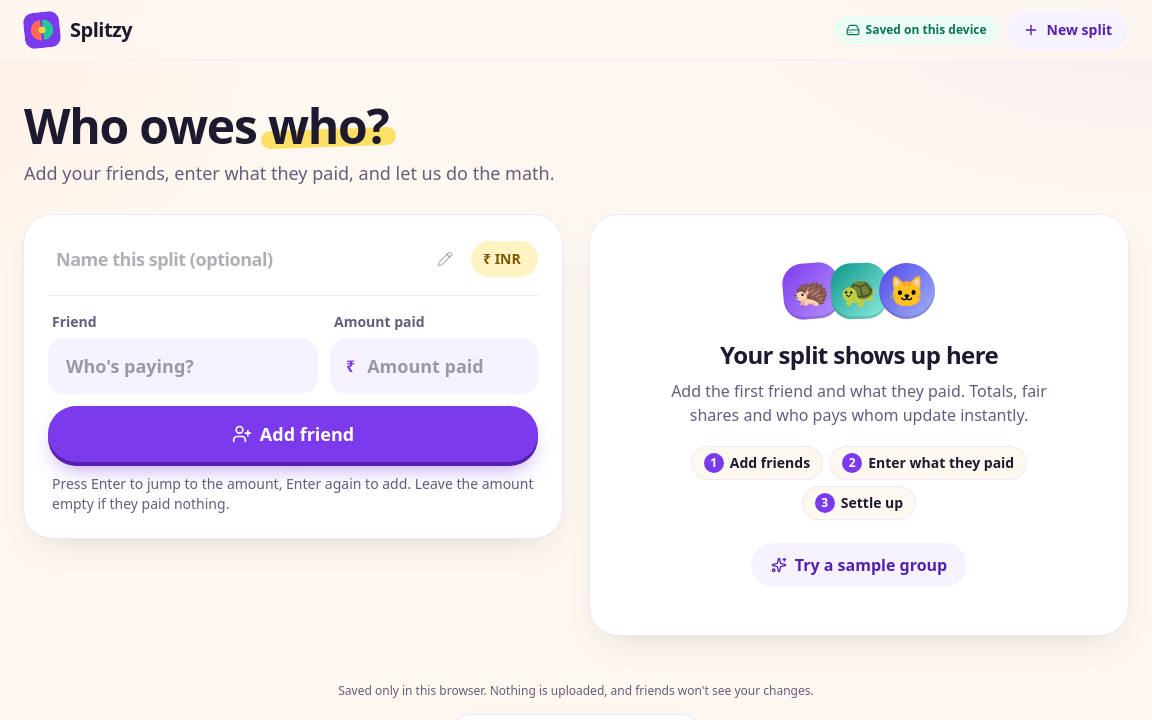
Test: Splitzy app › offers to merge a duplicate name instead of adding a second person
Type "Alice" into the field labelled "Friend" at (183,366), box [48, 338, 318, 394]
Type "900" into the field labelled "Amount paid" at (434,366), box [330, 338, 538, 394]
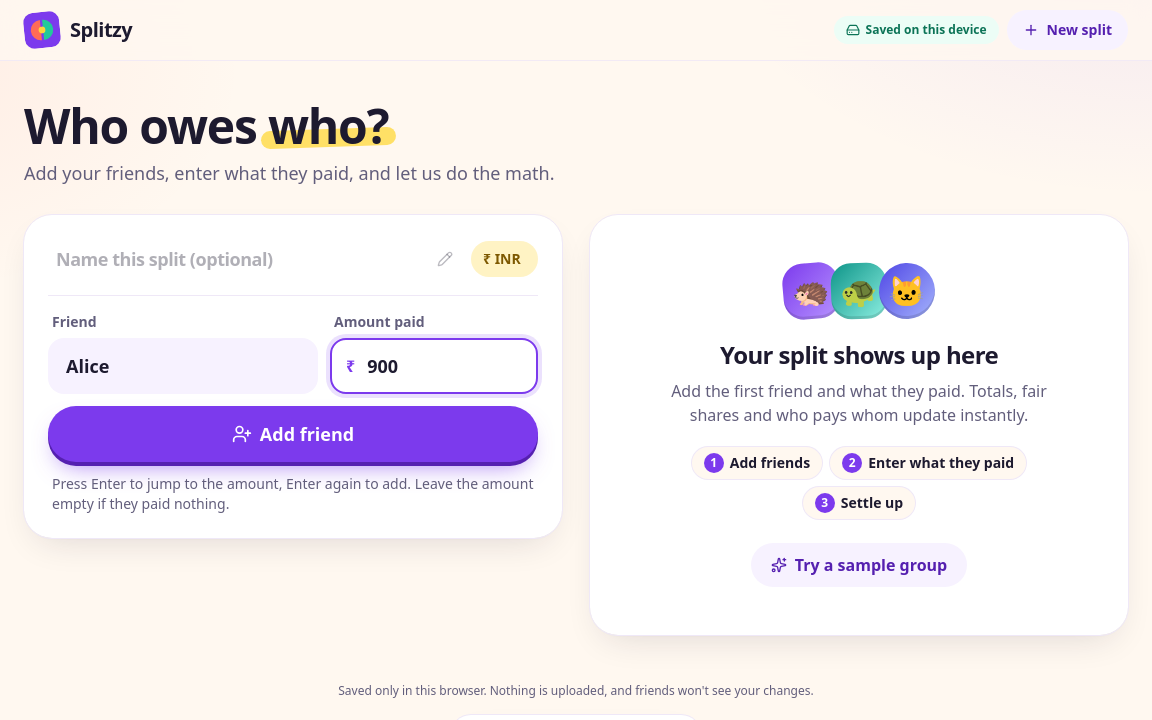
Click the button "Add friend" at (293,434), box [48, 406, 538, 462]
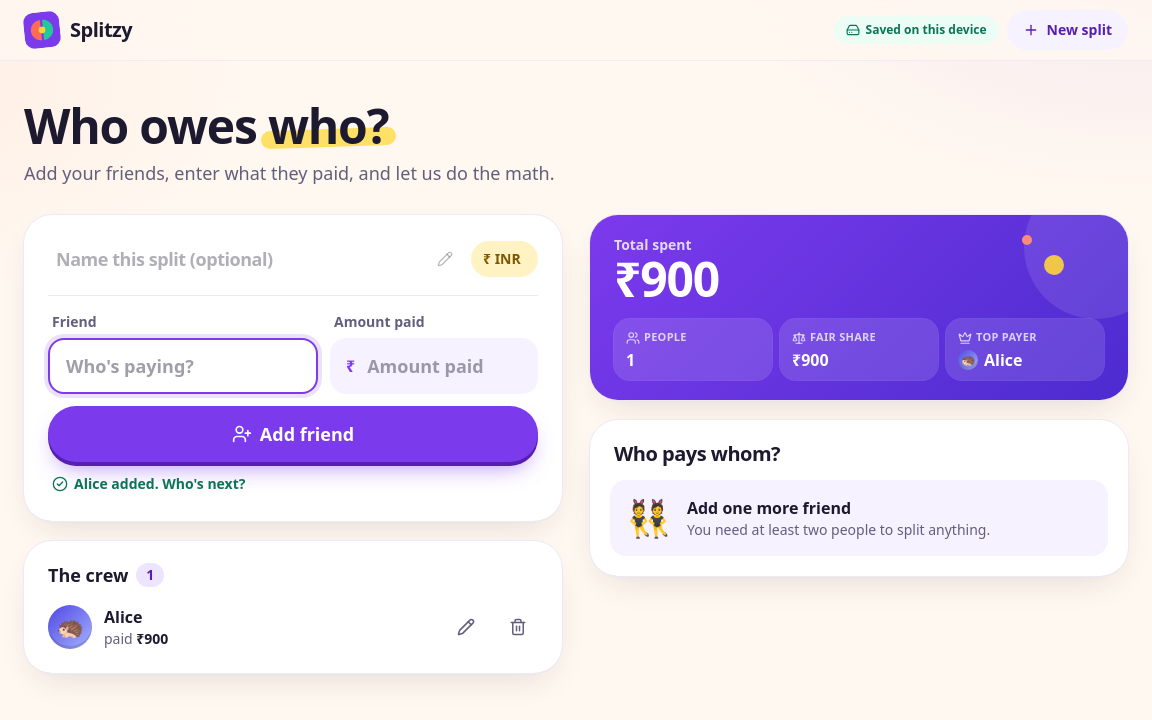
Type " alice " into the field labelled "Friend" at (183,366), box [48, 338, 318, 394]
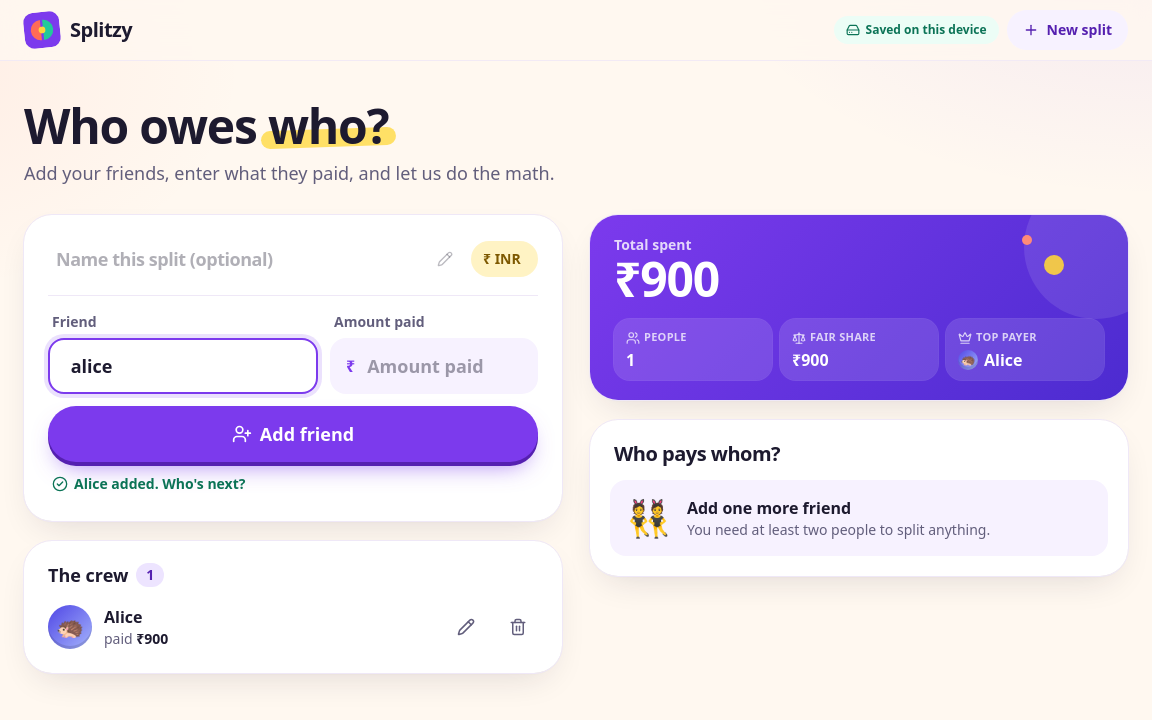
Type "100" into the field labelled "Amount paid" at (434,366), box [330, 338, 538, 394]
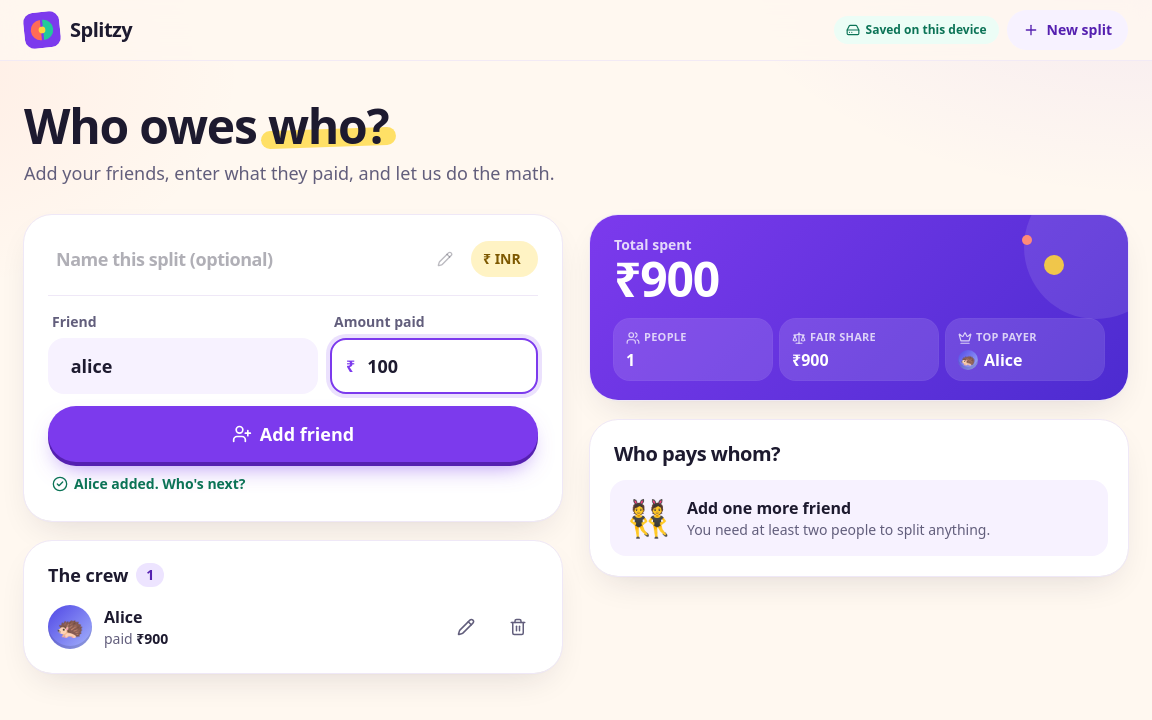
Click the button "Add friend" at (293,434), box [48, 406, 538, 462]
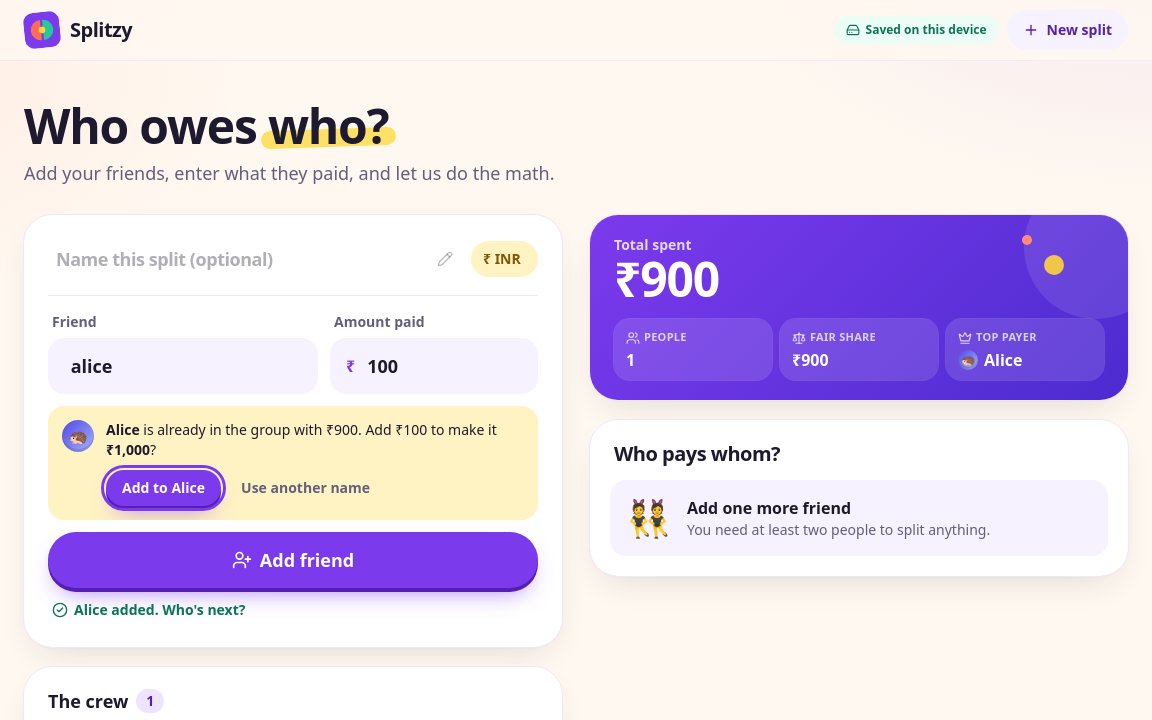
Click the button "Add to Alice" at (164,488), box [106, 470, 221, 506]
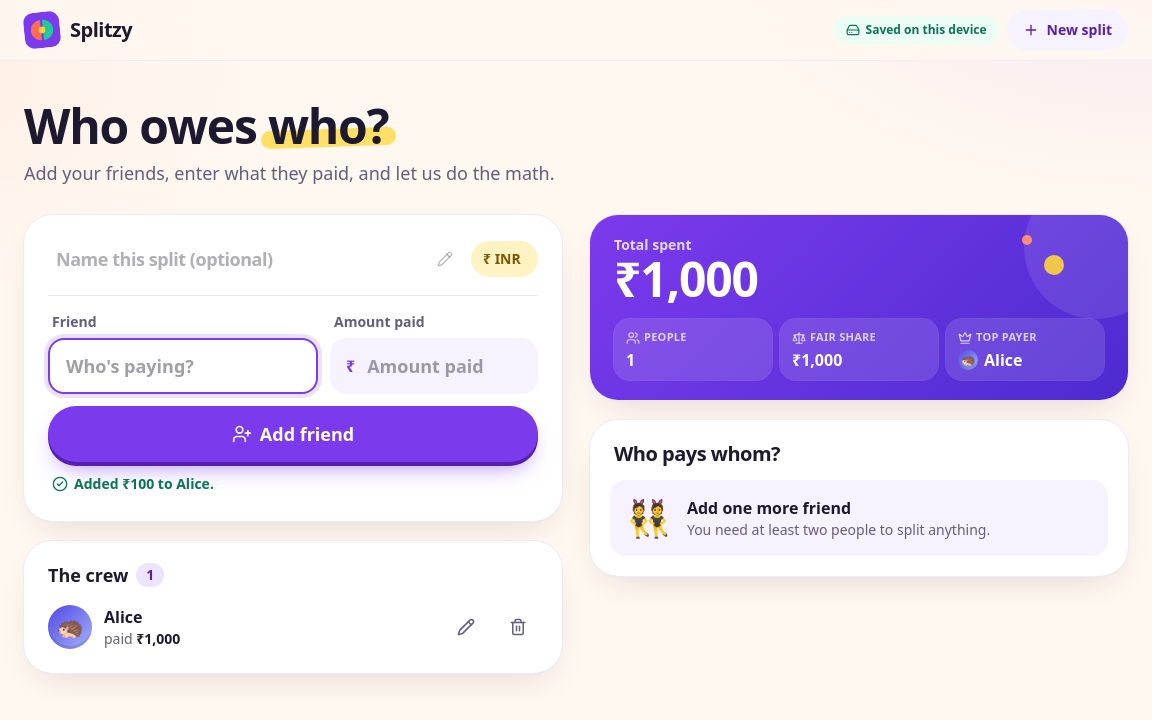
Now the number of list items is 1, box [40, 597, 546, 657]
Now the text "₹1,000" below "The crew" is shown, box [136, 629, 180, 648]
